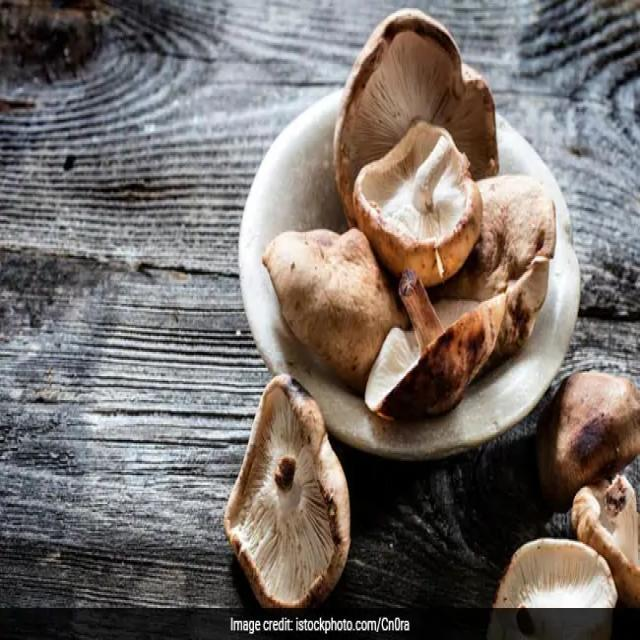Lentinus edodes: (333, 8, 499, 229), (226, 374, 352, 606), (353, 119, 482, 285), (263, 227, 395, 382), (367, 278, 507, 422), (465, 175, 557, 343)
